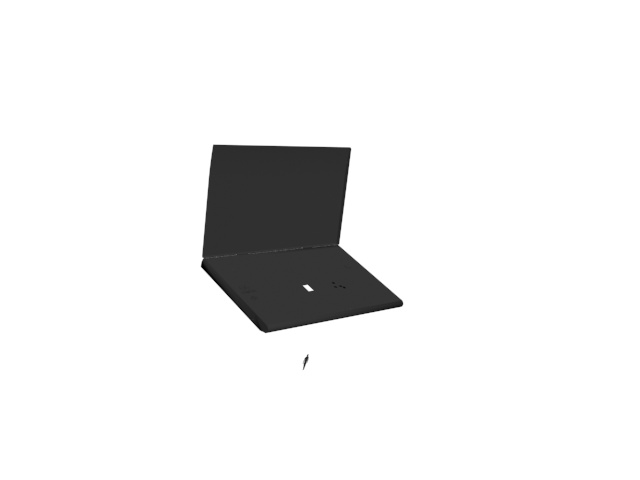laptop_computer: (201, 145, 408, 376)
